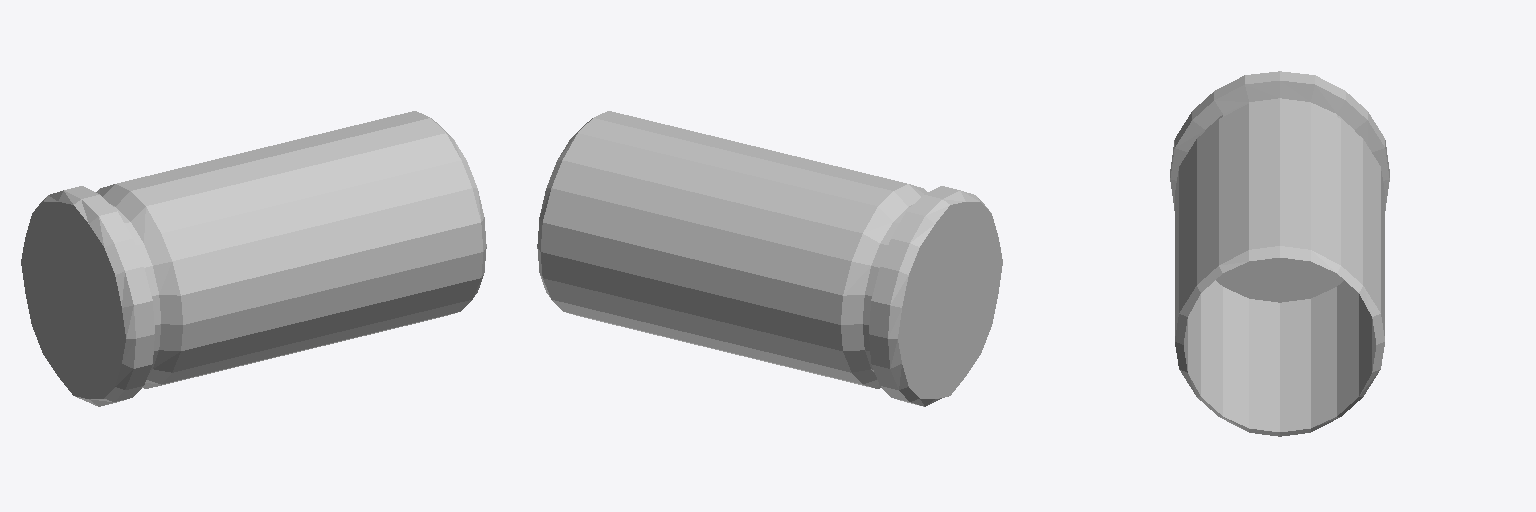
File: BulletCasing.obj
3 renders of one model, left to right at view 1: azimuth 30°, elevation 25°; view 2: azimuth 150°, elevation 25°; view 3: azimuth 270°, elevation 25°, orthographic.
Visible parts, largest first — view 1: BulletCasing; view 2: BulletCasing; view 3: BulletCasing.
Part boxes in pixels (bbox=[...]): BulletCasing: bbox=[21, 111, 486, 406]; BulletCasing: bbox=[537, 111, 1002, 406]; BulletCasing: bbox=[1170, 71, 1389, 436].
Size of the model in its own units: 0.0096 by 0.005 by 0.005.